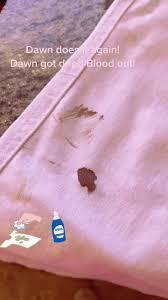blood: (74, 167, 100, 194)
